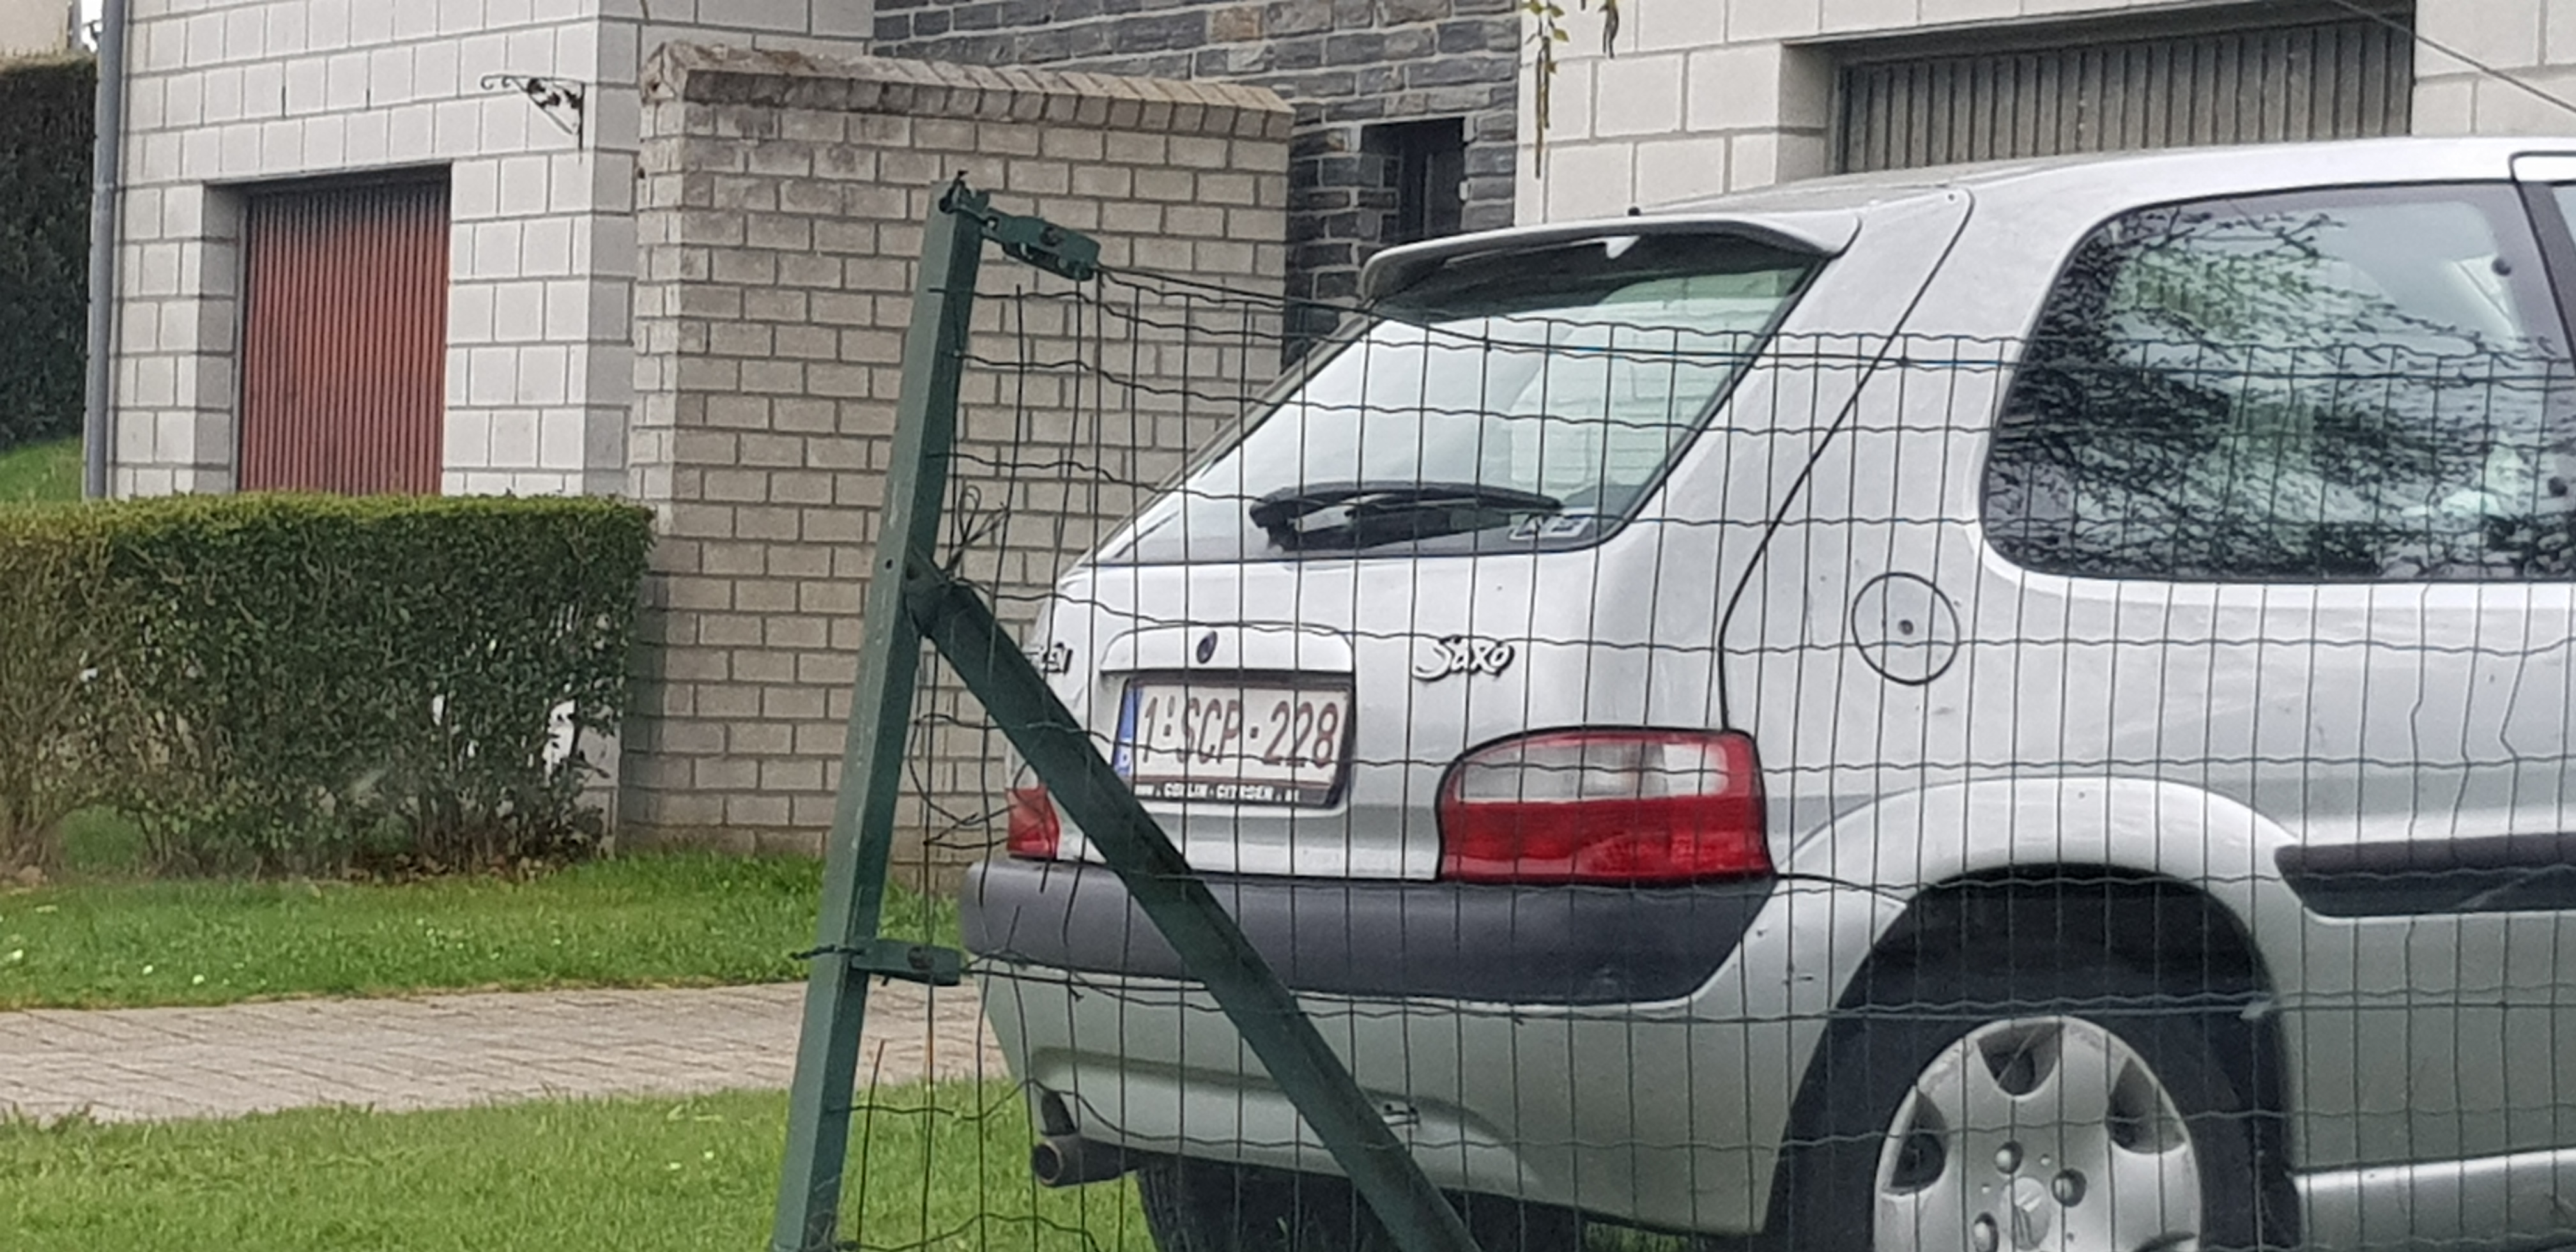licenceplate: (1112, 683, 1351, 786)
